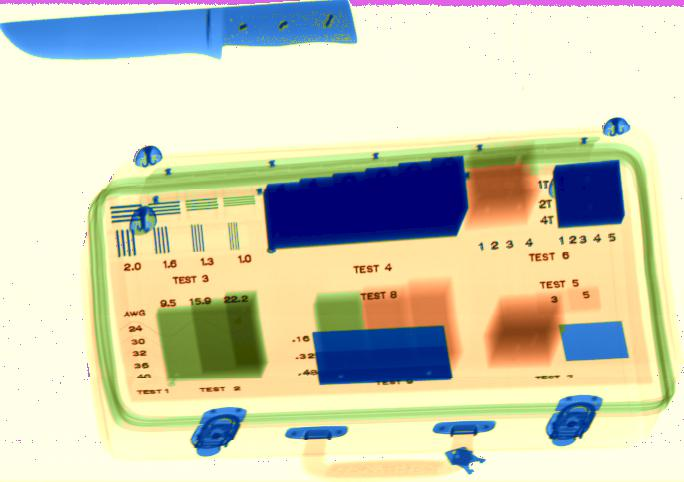Knife: (1, 1, 357, 60)
